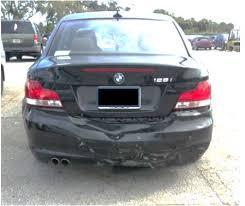rear-bumper-dent: (38, 117, 203, 170)
